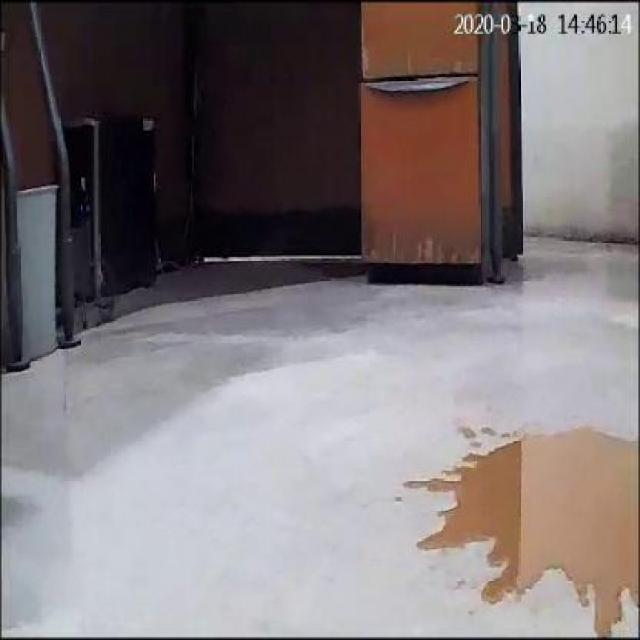spill: (403, 427, 634, 638)
